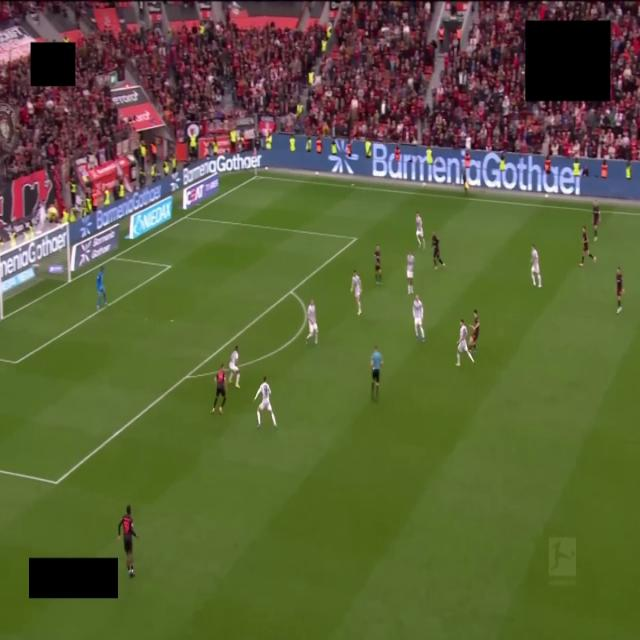player: (118, 506, 137, 577), (255, 376, 276, 427), (456, 320, 474, 366), (212, 363, 226, 414), (580, 227, 596, 267), (413, 296, 424, 342), (351, 271, 362, 315), (306, 300, 317, 344), (432, 232, 445, 269), (97, 266, 107, 310), (531, 245, 541, 287), (229, 346, 239, 388), (469, 310, 479, 351), (416, 211, 426, 249), (616, 267, 624, 313), (407, 252, 414, 294), (593, 200, 600, 241), (375, 246, 381, 284)
referee: (371, 346, 383, 399)
